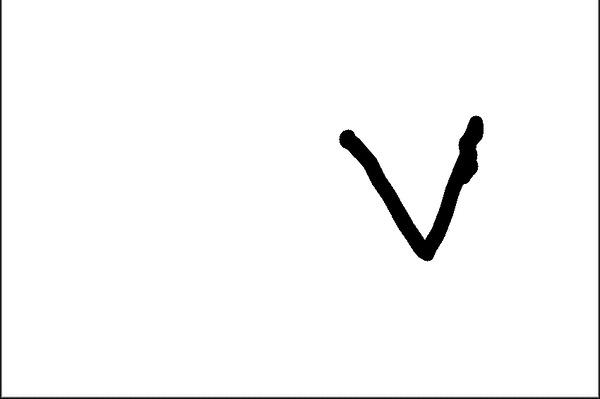V: (325, 106, 495, 264)
